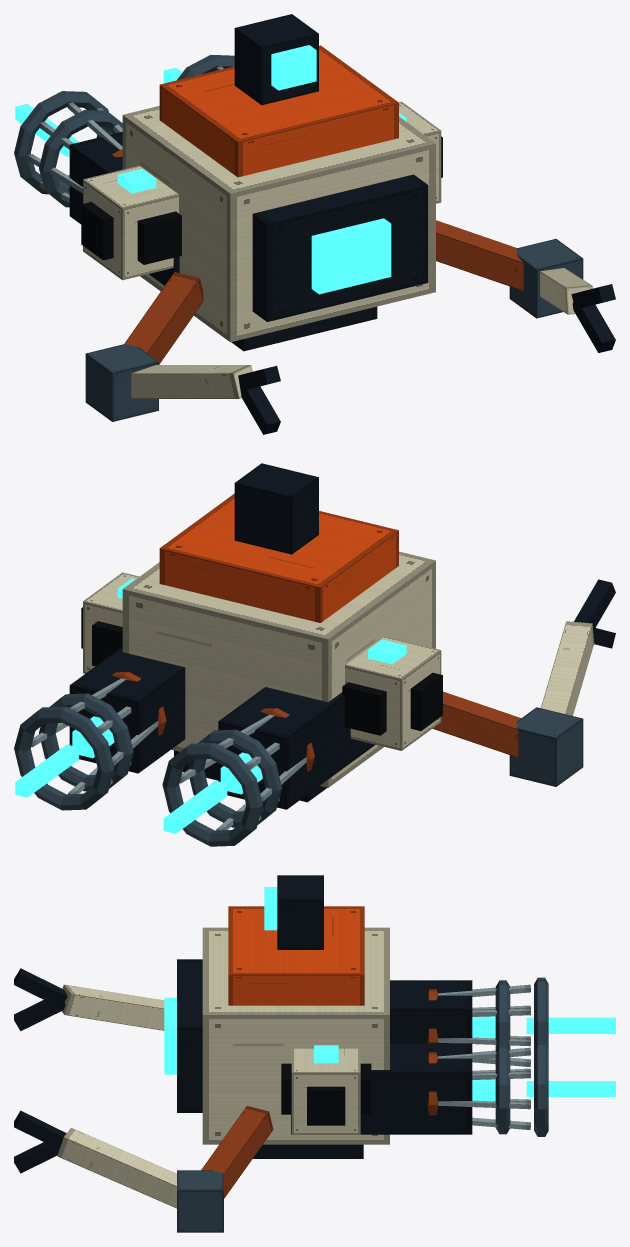
Rendered from ship_10_cableinspector.glb.
3 renders of one model, top to bottom at view 1: azimuth 30°, elevation 25°; view 2: azimuth 150°, elevation 25°; view 3: azimuth 270°, elevation 25°, orthographic. The views are drawn at different scales.
Visible parts, largest first — view 1: Ship_10_CableInspector_Hull / module, Ship_10_CableInspector_ScannerHead / module; view 2: Ship_10_CableInspector_Hull / module, Ship_10_CableInspector_ScannerHead / module; view 3: Ship_10_CableInspector_Hull / module, Ship_10_CableInspector_ScannerHead / module.
Boxes of the visible parts, left/top/right/bottom form: Ship_10_CableInspector_Hull / module: left=14, top=45, right=615, bottom=434; Ship_10_CableInspector_ScannerHead / module: left=234, top=14, right=318, bottom=105; Ship_10_CableInspector_Hull / module: left=14, top=493, right=615, bottom=846; Ship_10_CableInspector_ScannerHead / module: left=234, top=463, right=318, bottom=554; Ship_10_CableInspector_Hull / module: left=14, top=906, right=615, bottom=1232; Ship_10_CableInspector_ScannerHead / module: left=264, top=875, right=323, bottom=949.
Bounding box in the file's own units: 2.22 × 1.27 × 2.83.
Materials: 8 (8 with a texture image).
